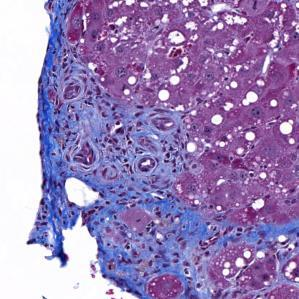fibrosis: (100, 204, 273, 293), (59, 106, 195, 218), (44, 61, 126, 134)
